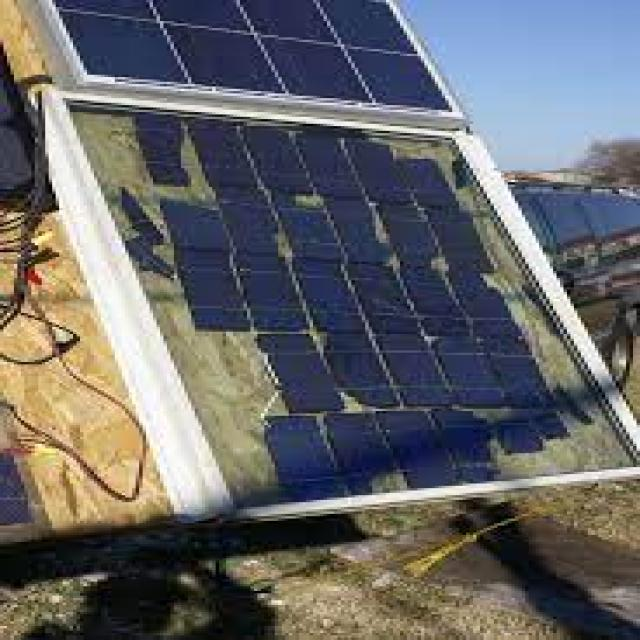faulty: (72, 103, 639, 505)
